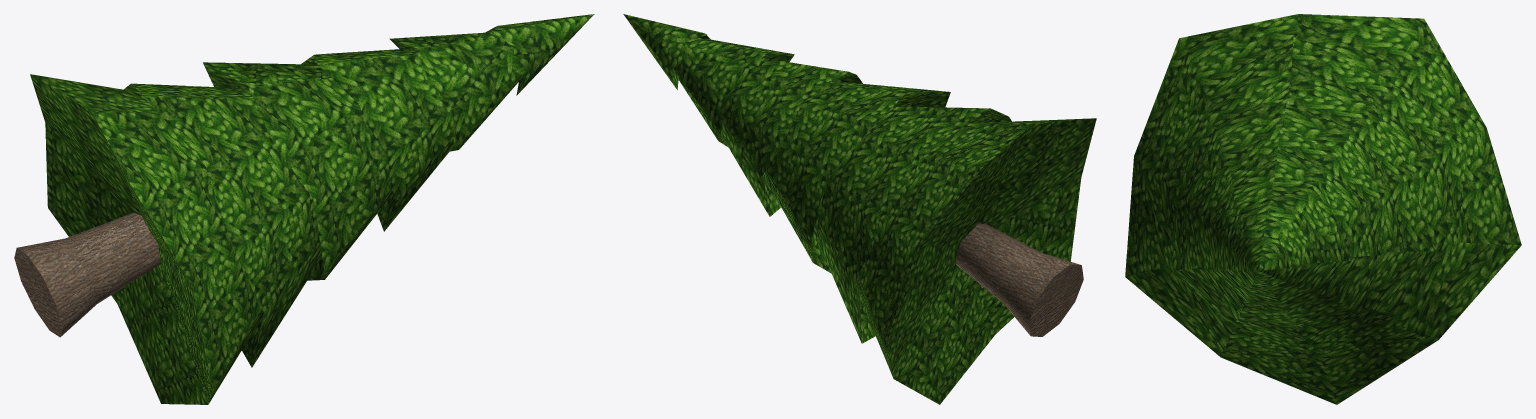
Rendered from treefalls6.obj.
3 renders of one model, left to right at view 1: azimuth 30°, elevation 25°; view 2: azimuth 150°, elevation 25°; view 3: azimuth 270°, elevation 25°, orthographic. The views are drawn at different scales.
Visible parts, largest first — view 1: Cylinder.002_Cylinder.013, Cylinder.001_Cylinder.012; view 2: Cylinder.002_Cylinder.013, Cylinder.001_Cylinder.012; view 3: Cylinder.002_Cylinder.013.
Part boxes in pixels (box(x1,y1,x2,y2)): Cylinder.002_Cylinder.013: box(30, 14, 594, 404); Cylinder.001_Cylinder.012: box(14, 212, 160, 337); Cylinder.002_Cylinder.013: box(623, 14, 1096, 404); Cylinder.001_Cylinder.012: box(956, 223, 1083, 336); Cylinder.002_Cylinder.013: box(1125, 14, 1521, 404).
Size of the model in its own units: 3.75 by 2.2 by 2.27.
